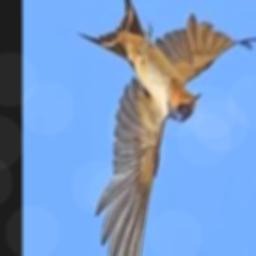Swallow: (76, 0, 256, 256)
